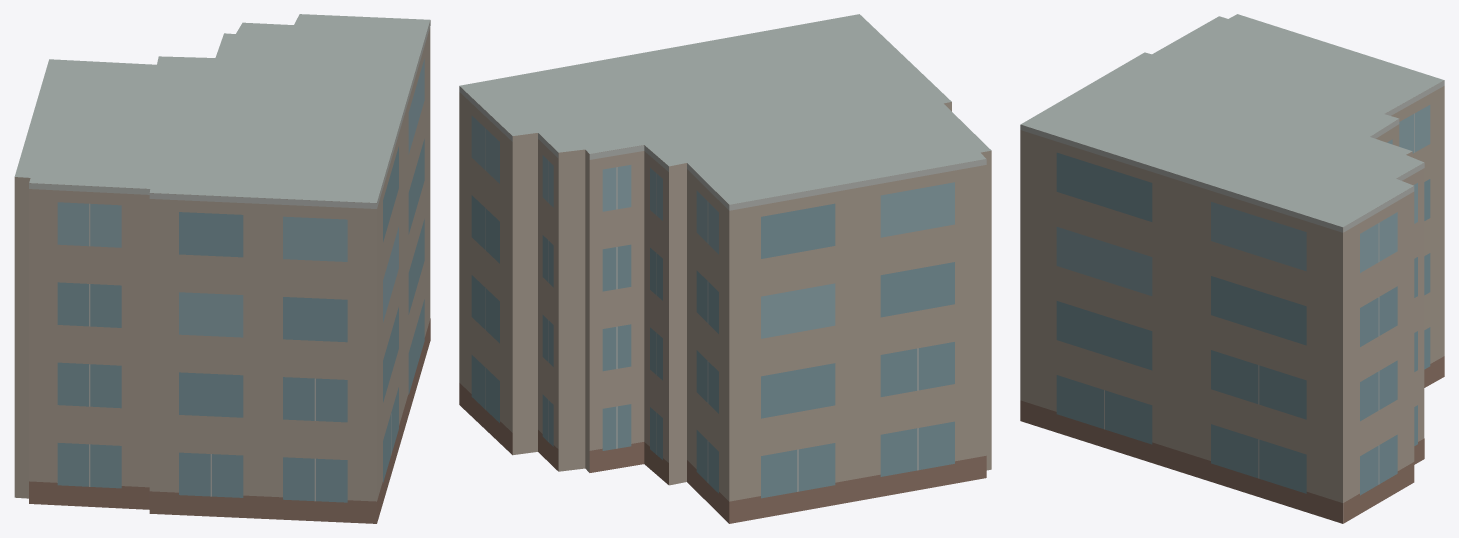
The model's file is survey-upis-32842889.glb.
3 views of the same model, side by side, from view 1: azimuth 30°, elevation 25°; view 2: azimuth 150°, elevation 25°; view 3: azimuth 270°, elevation 25° (orthographic). The views are drawn at different scales.
Parts seen in each view (by area): view 1: survey-upis-32842889.tmp; view 2: survey-upis-32842889.tmp; view 3: survey-upis-32842889.tmp.
Part boxes in pixels (<box>): survey-upis-32842889.tmp: <box>14,14,430,523</box>; survey-upis-32842889.tmp: <box>459,14,991,523</box>; survey-upis-32842889.tmp: <box>1020,14,1444,523</box>.
Bounding box in the file's own units: 20.22 × 13.1 × 16.99.
